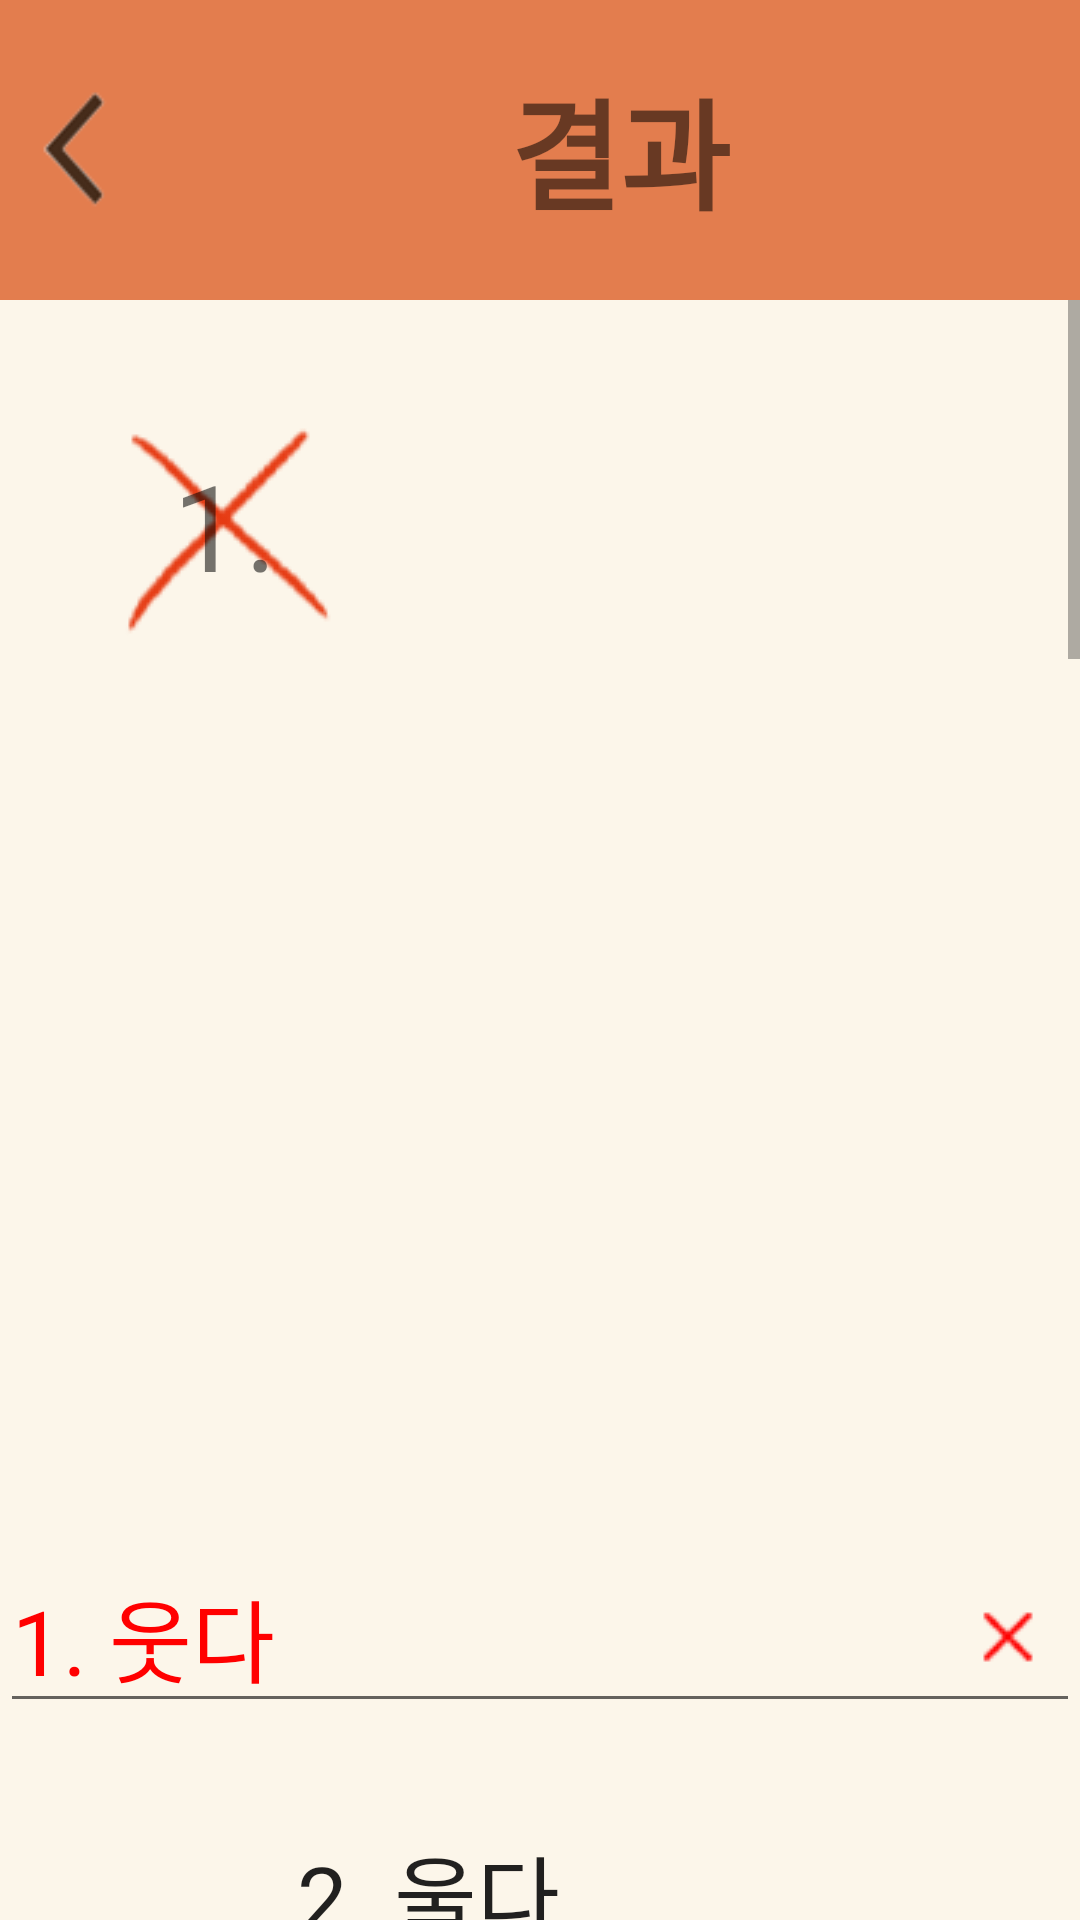

Icons on this 1080px×1920px Android screen, each with its box as [x1, y1, x2, y2]:
arrow: [44, 93, 103, 204]
